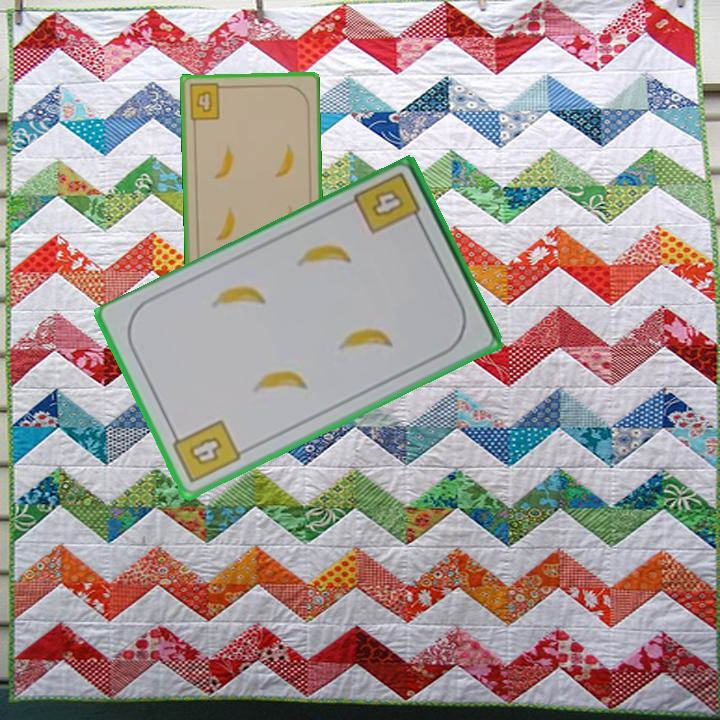4b: (167, 416, 244, 487), (351, 169, 427, 238), (186, 80, 228, 123)
